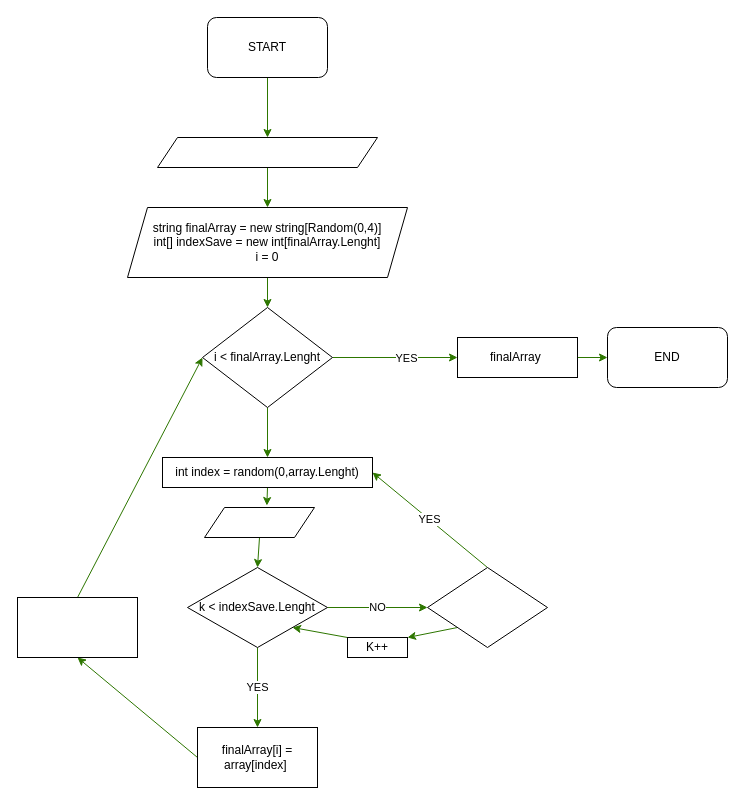
The diagram is 745 pixels wide and 805 high, and some of its shapes have lost their labels. Here are the shapes that lost their labels. From the top down, the centre of each, then its label:
At (267,152): "string[] array = [1,2,3,4,5]".
At (259,522): "k = 0".
At (77,627): "I++".
At (487,607): "index == indexSave".
